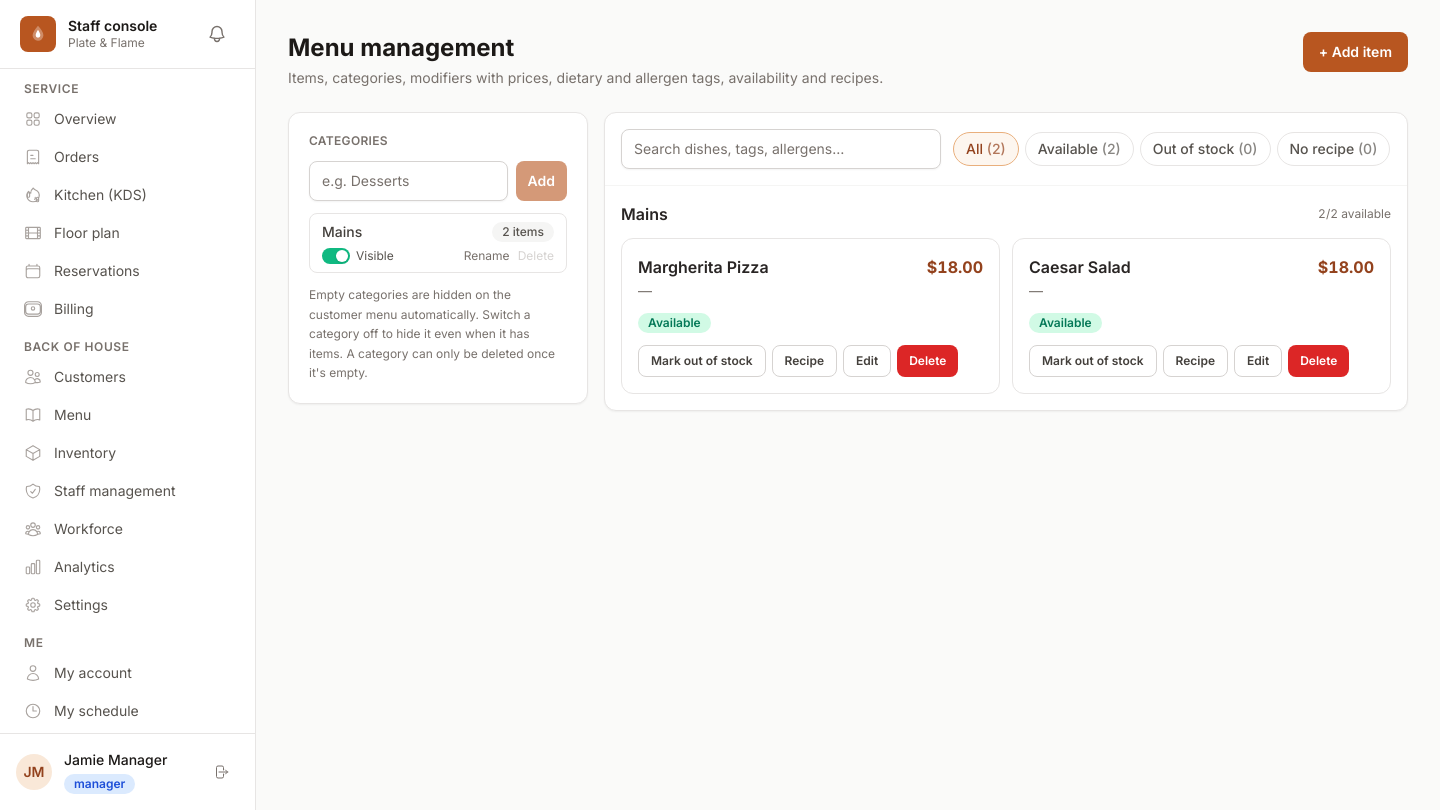
Scenario: MenuPage › filters items shown by search text
The width and height of the screenshot is (1440, 810).
Expected: the text "Caesar Salad" is shown, [1029,255,1131,279]
Type "pizza" into the search field named "Search menu" at (781, 149), box [621,129,941,169]
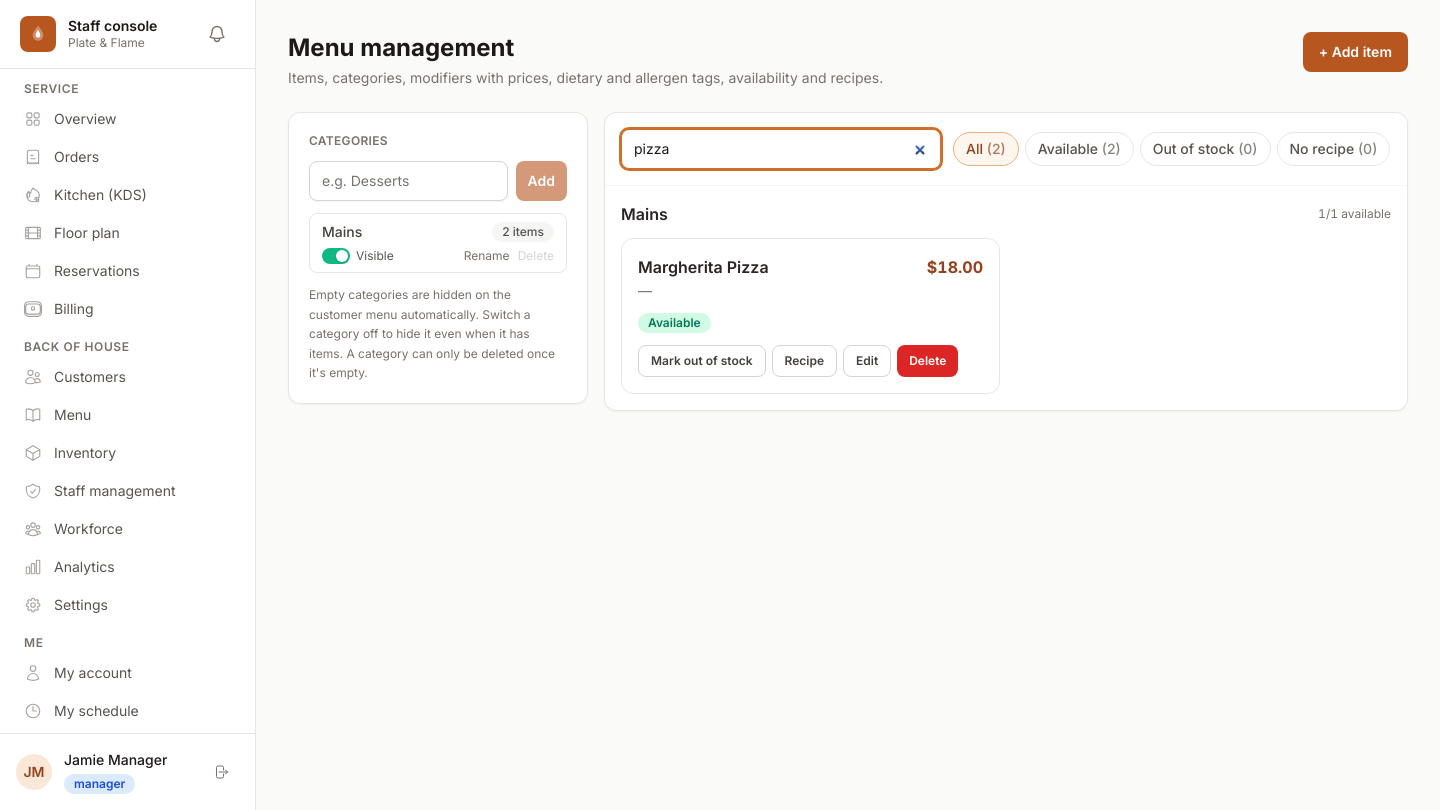
Expected: the text "Margherita Pizza" is shown, [638,255,769,279]
Now the text "Caesar Salad" is gone
